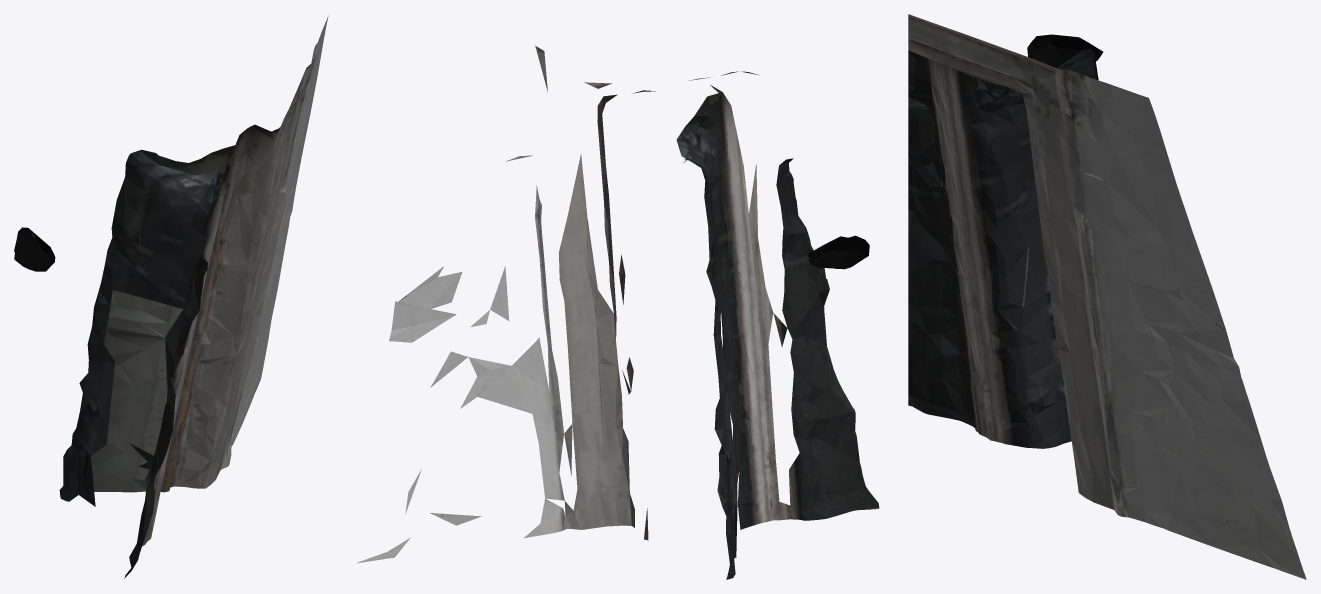
3 views of the same model, side by side, from view 1: azimuth 30°, elevation 25°; view 2: azimuth 150°, elevation 25°; view 3: azimuth 270°, elevation 25° (orthographic). The views are drawn at different scales.
Bounding box in the file's own units: 1.51 × 1.67 × 1.26.
3 materials, 3 textured.
